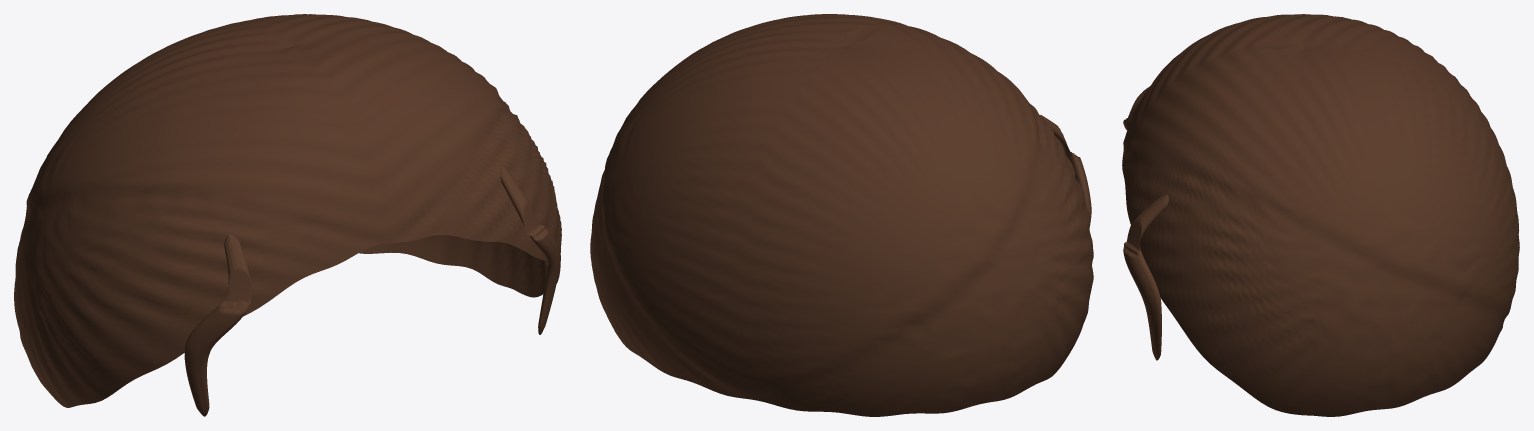
The model's file is Highlights-4317bf10292d251-hair.glb.
The picture shows the model from 3 angles, left to right: view 1: azimuth 30°, elevation 25°; view 2: azimuth 150°, elevation 25°; view 3: azimuth 270°, elevation 25°; orthographic projection. The views are drawn at different scales.
Visible parts, largest first — view 1: 226 hair / Hair / chestnut226.002; view 2: 226 hair / Hair / chestnut226.002; view 3: 226 hair / Hair / chestnut226.002.
Part boxes in pixels (bbox=[...]): 226 hair / Hair / chestnut226.002: bbox=[14, 14, 561, 416]; 226 hair / Hair / chestnut226.002: bbox=[590, 14, 1093, 416]; 226 hair / Hair / chestnut226.002: bbox=[1122, 14, 1519, 416].
Size of the model in its own units: 0.9981 by 0.5981 by 0.7846.
